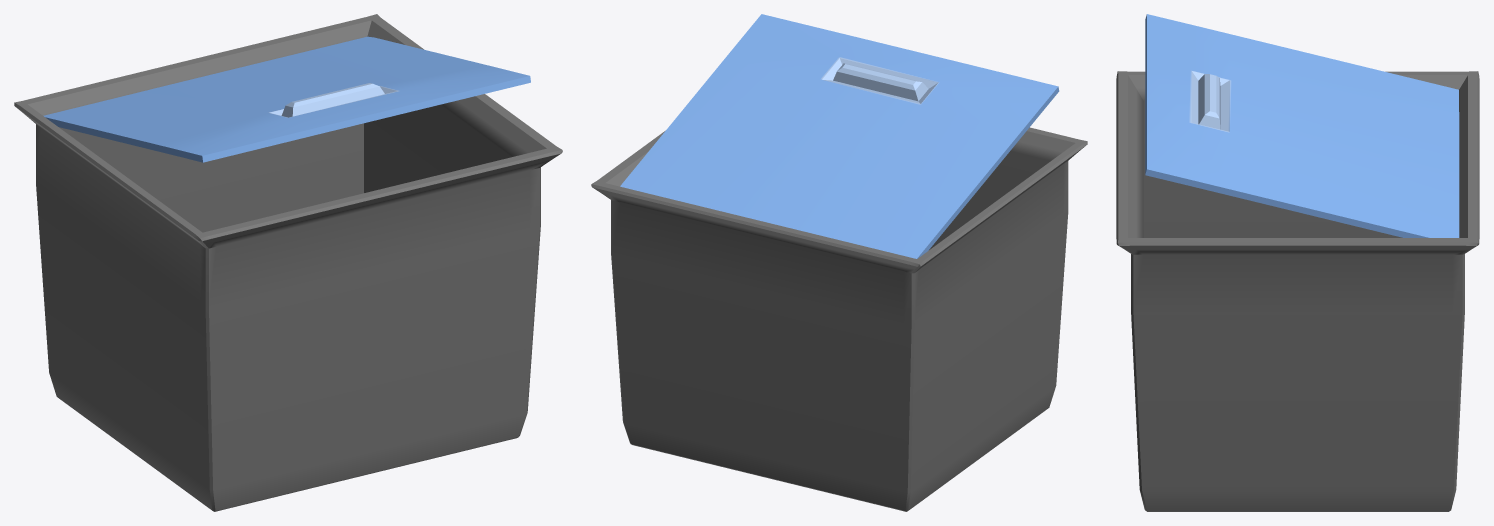
The model's file is FoodContainerGroup.fbx.
The picture shows the model from 3 angles, left to right: view 1: azimuth 30°, elevation 25°; view 2: azimuth 150°, elevation 25°; view 3: azimuth 270°, elevation 25°; orthographic projection. The views are drawn at different scales.
Visible parts, largest first — view 1: pFoodContainerCopy; view 2: pFoodContainerCopy; view 3: pFoodContainerCopy.
Boxes of the visible parts, x1,y1,x2,y2 form: pFoodContainerCopy: (14, 14, 562, 511); pFoodContainerCopy: (591, 14, 1087, 511); pFoodContainerCopy: (1116, 14, 1479, 511).
Size of the model in its own units: 0.4887 by 0.4608 by 0.4346.
